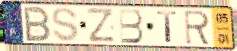B: (23, 6, 53, 43), (118, 8, 145, 45)
R: (183, 9, 213, 47)
S: (50, 6, 80, 43)
T: (156, 10, 179, 44)
Z: (85, 7, 116, 44)
